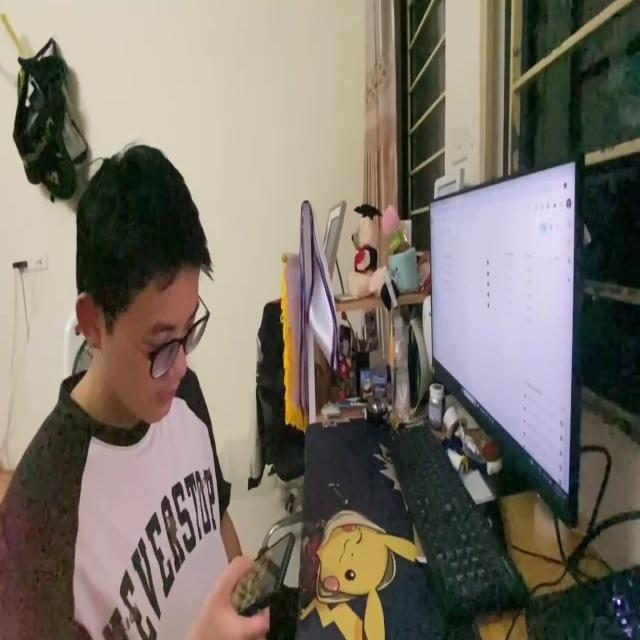laptop: (420, 146, 588, 534)
phone: (226, 522, 294, 612)
student: (0, 139, 295, 640)
